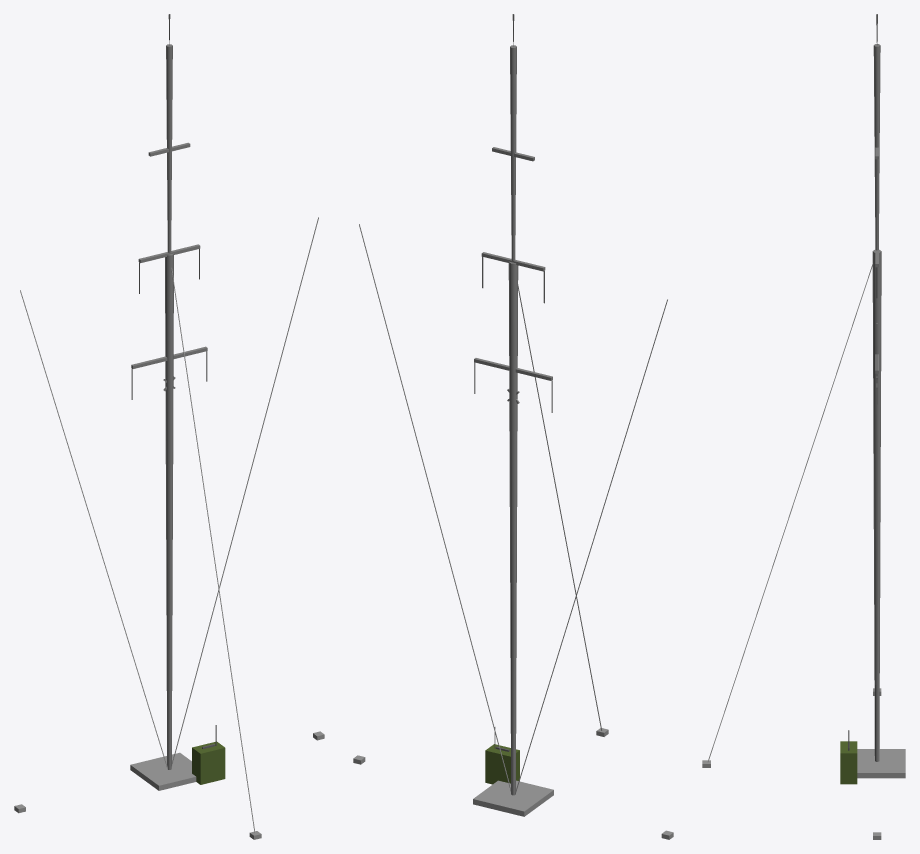
Rendered from comms-tower.glb.
3 renders of one model, left to right at view 1: azimuth 30°, elevation 25°; view 2: azimuth 150°, elevation 25°; view 3: azimuth 270°, elevation 25°, orthographic. The views are drawn at different scales.
Parts seen in each view (by area): view 1: Mesh_MainMast, Mesh_BasePlate, Mesh_EquipBox, Mesh_MastUpper, Mesh_GuyWire2, Mesh_GuyWire3, Mesh_GuyWire1; view 2: Mesh_MainMast, Mesh_BasePlate, Mesh_MastUpper, Mesh_EquipBox, Mesh_GuyWire3, Mesh_GuyWire1, Mesh_GuyWire2; view 3: Mesh_MainMast, Mesh_BasePlate, Mesh_MastUpper, Mesh_GuyWire3, Mesh_EquipBox, Mesh_GuyWire2.
Boxes of the visible parts, bbox=[...] form: Mesh_MainMast: bbox=[165, 253, 173, 769]; Mesh_BasePlate: bbox=[130, 752, 196, 790]; Mesh_EquipBox: bbox=[192, 741, 225, 784]; Mesh_MastUpper: bbox=[166, 44, 172, 252]; Mesh_GuyWire2: bbox=[171, 268, 255, 832]; Mesh_GuyWire3: bbox=[171, 217, 318, 767]; Mesh_GuyWire1: bbox=[20, 290, 167, 769]; Mesh_MainMast: bbox=[508, 261, 518, 795]; Mesh_BasePlate: bbox=[473, 780, 553, 816]; Mesh_MastUpper: bbox=[510, 45, 516, 260]; Mesh_EquipBox: bbox=[485, 744, 519, 784]; Mesh_GuyWire3: bbox=[359, 224, 510, 791]; Mesh_GuyWire1: bbox=[515, 299, 667, 794]; Mesh_GuyWire2: bbox=[518, 284, 602, 730]; Mesh_MainMast: bbox=[872, 249, 881, 761]; Mesh_BasePlate: bbox=[857, 749, 905, 778]; Mesh_MastUpper: bbox=[873, 44, 880, 250]; Mesh_GuyWire3: bbox=[876, 323, 877, 761]; Mesh_EquipBox: bbox=[840, 741, 857, 784]; Mesh_GuyWire2: bbox=[708, 263, 872, 761].
Size of the model in its own units: 6.15 by 14.6 by 3.58.
